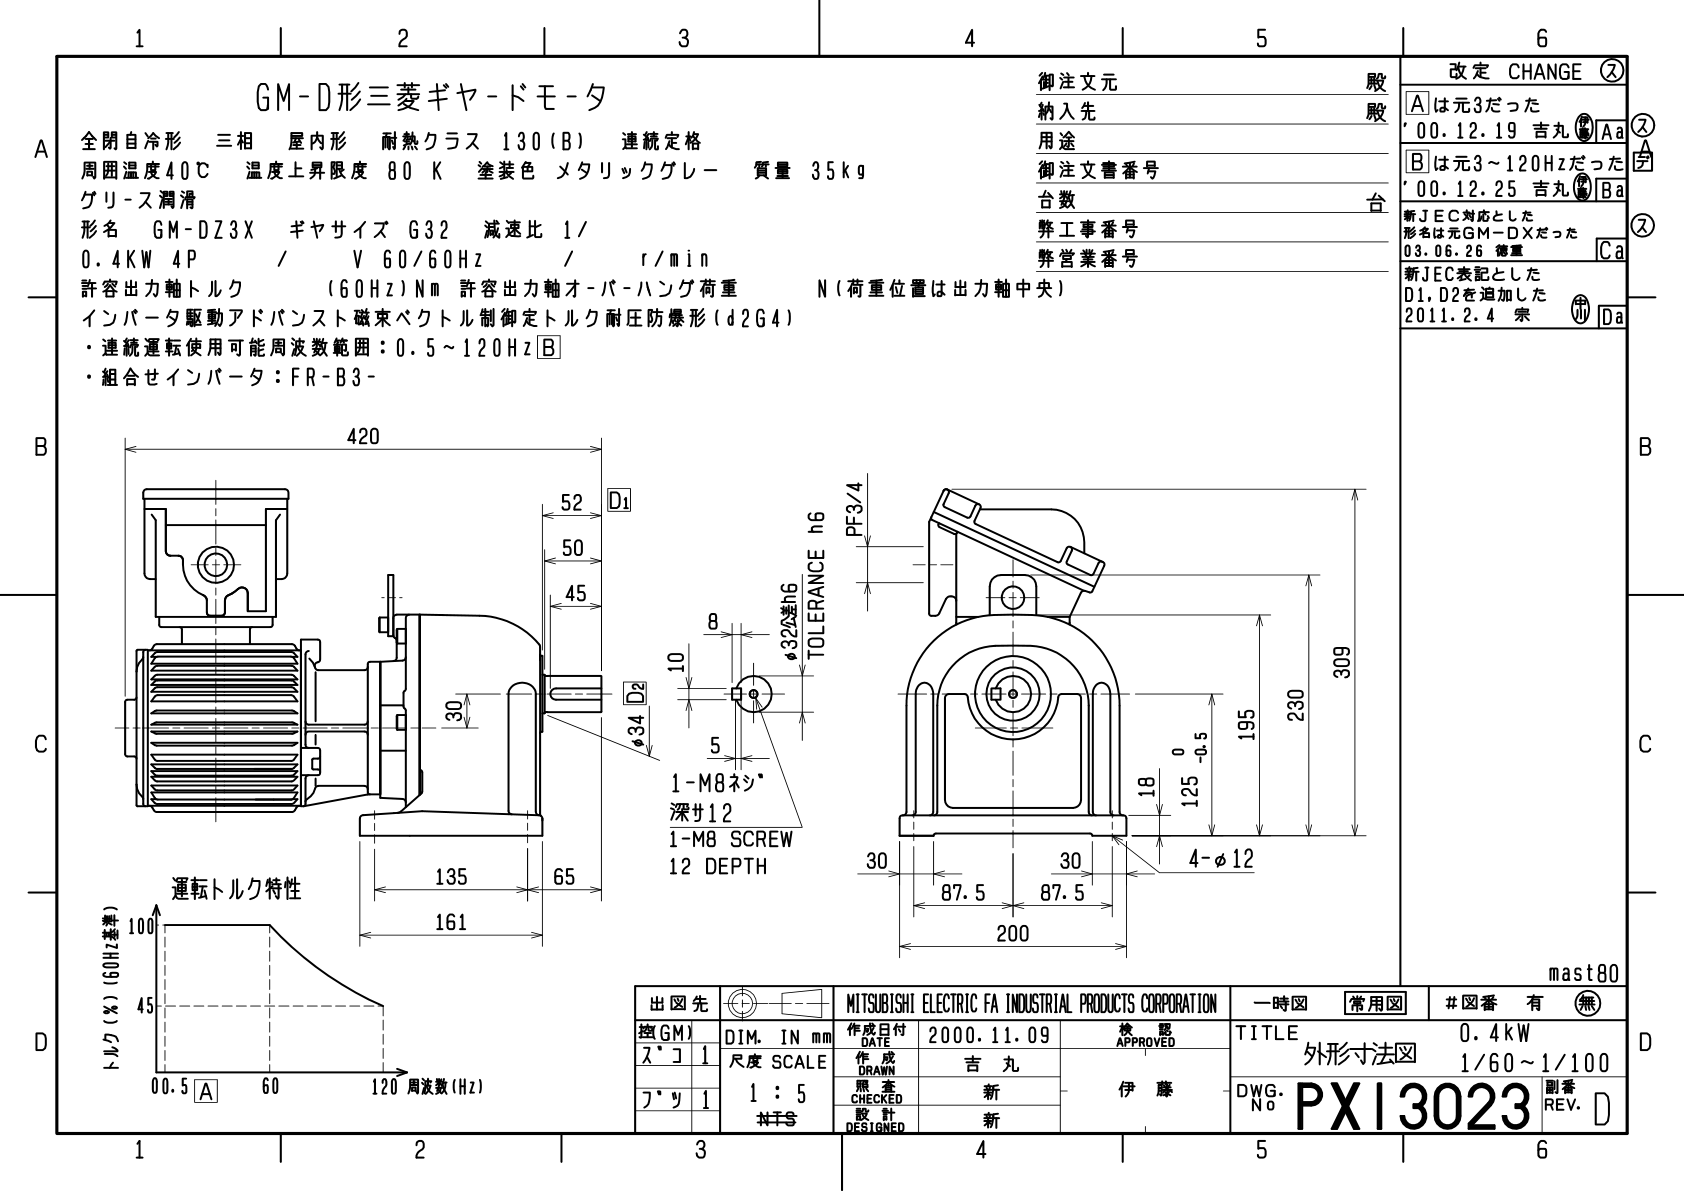GM_D_制御屋内_三相_脚: (1, 1, 1669, 1176)
